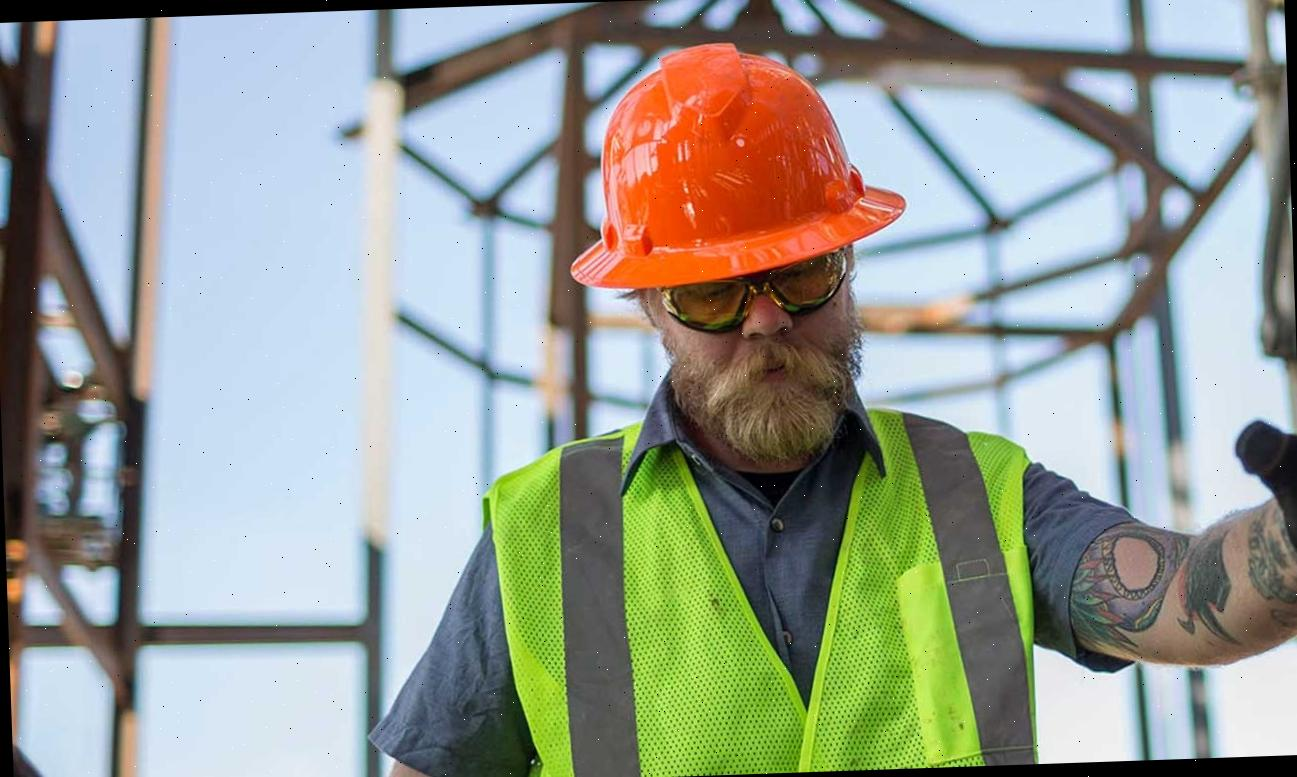helmet: (561, 33, 911, 300)
wear: (467, 438, 1064, 777)
